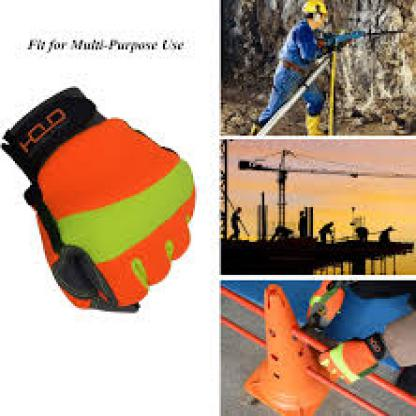glove: (2, 87, 197, 314), (315, 332, 386, 387), (307, 280, 345, 330)
